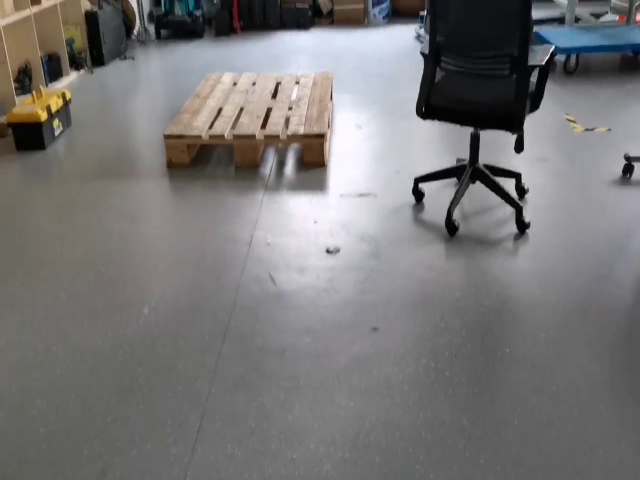block: (227, 132, 258, 169), (301, 134, 331, 172), (165, 132, 193, 168)
front: (164, 133, 327, 171)
hole pallet: (260, 140, 304, 173), (185, 143, 232, 172)
